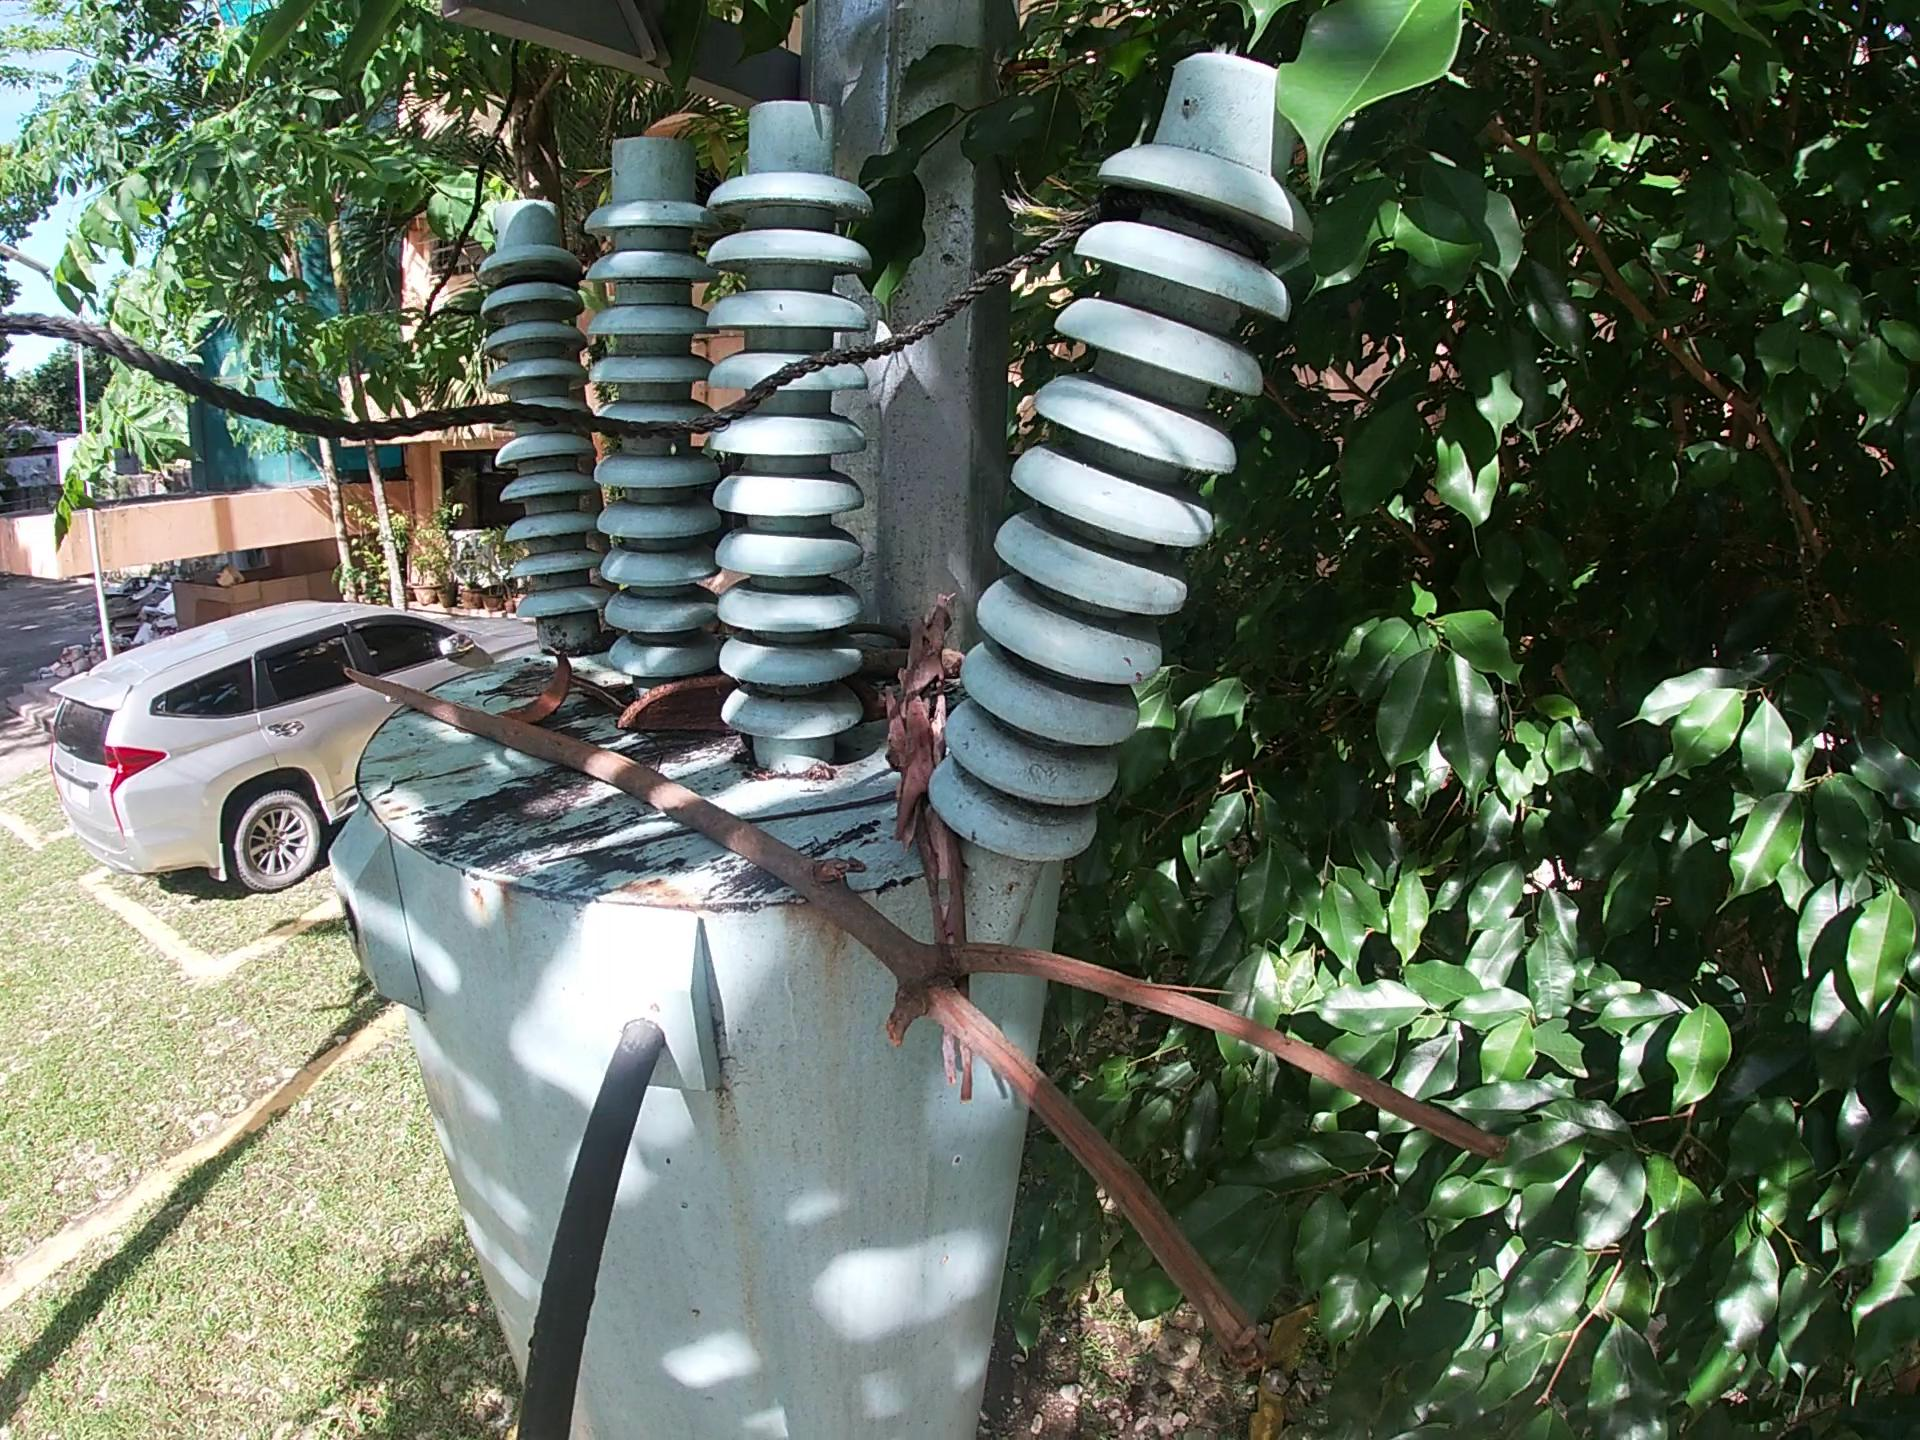mahogany fruit: (617, 670, 890, 753), (494, 644, 574, 725)
tree branch: (333, 650, 1510, 1379), (875, 590, 992, 1110), (856, 638, 969, 687), (844, 619, 913, 650)
